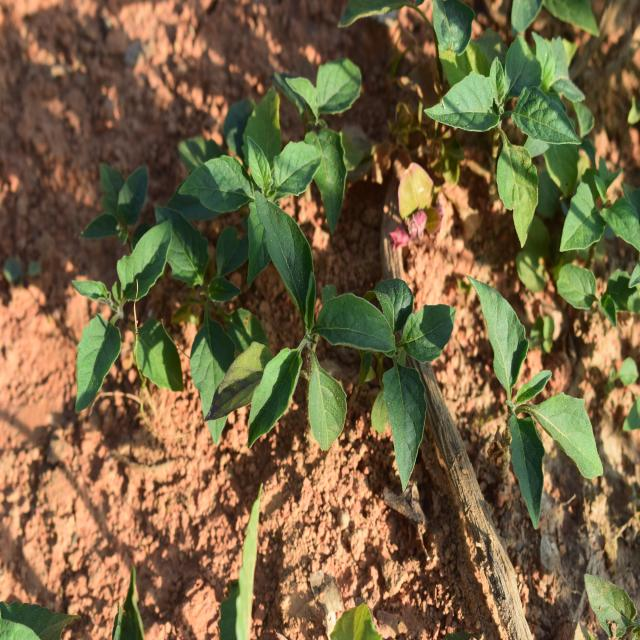Black_nightshade: (474, 272, 617, 520), (187, 85, 345, 288), (238, 232, 374, 451), (361, 262, 457, 483), (65, 218, 179, 387)
